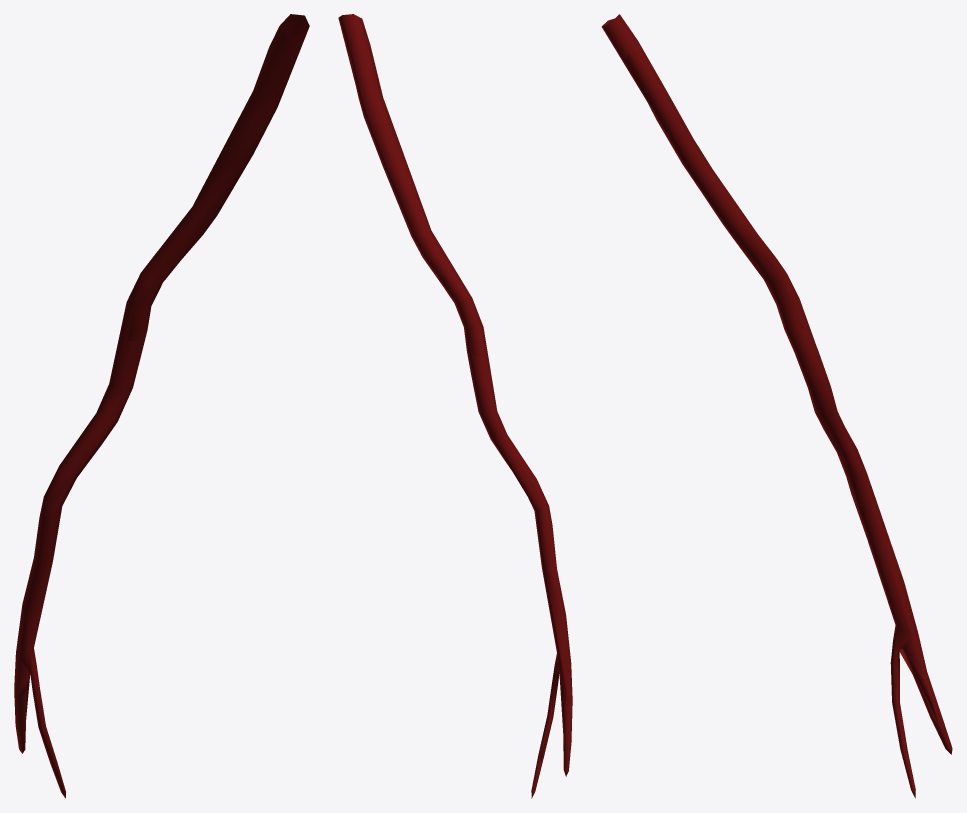
Rendered from L poplitea.fbx.
3 views of the same model, side by side, from view 1: azimuth 30°, elevation 25°; view 2: azimuth 210°, elevation 25°; view 3: azimuth 270°, elevation 25° (orthographic). The views are drawn at different scales.
Visible parts, largest first — view 1: L poplitea, L poplitea low; view 2: L poplitea, L poplitea low; view 3: L poplitea, L poplitea low.
Part boxes in pixels (bbox=[...]): L poplitea: bbox=[14, 16, 309, 798]; L poplitea low: bbox=[17, 14, 309, 762]; L poplitea: bbox=[342, 14, 572, 798]; L poplitea low: bbox=[338, 15, 569, 768]; L poplitea: bbox=[602, 14, 952, 798]; L poplitea low: bbox=[602, 18, 951, 755].
Size of the model in its own units: 2.93 by 19.28 by 7.54.
